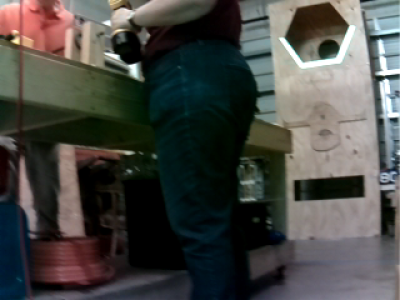target: (278, 25, 357, 69)
